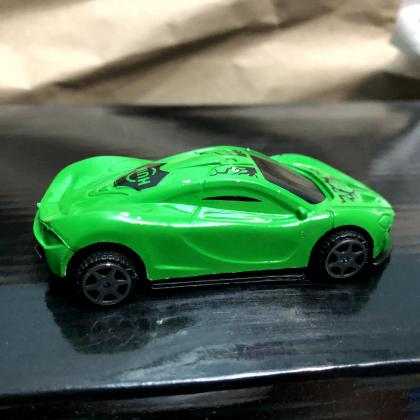Car: (31, 146, 395, 307)
